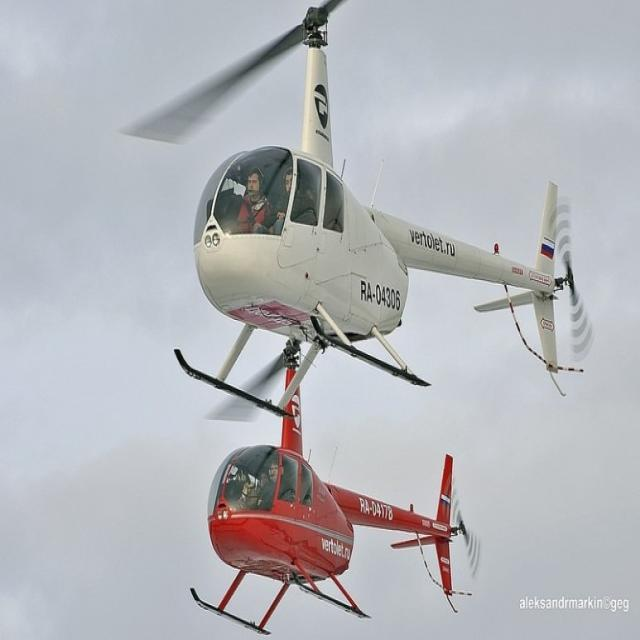CIV_HELO: (172, 5, 567, 421)
